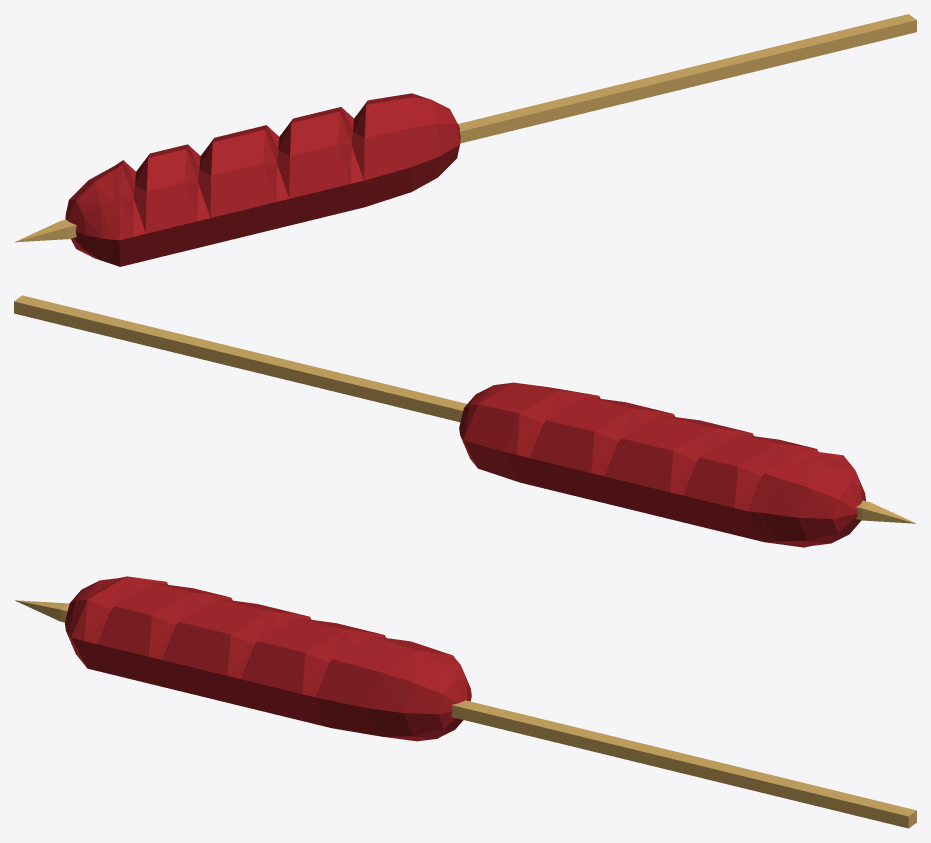
Rendered from SM_Cook_SkewerSausage_Grilled_01.fbx.
3 views of the same model, one above another, from view 1: azimuth 30°, elevation 25°; view 2: azimuth 150°, elevation 25°; view 3: azimuth 330°, elevation 25° (orthographic).
Parts seen in each view (by area): view 1: SM_Cook_SkewerSausage_Grilled_01; view 2: SM_Cook_SkewerSausage_Grilled_01; view 3: SM_Cook_SkewerSausage_Grilled_01.
Boxes of the visible parts, bbox=[...] form: SM_Cook_SkewerSausage_Grilled_01: bbox=[15, 14, 916, 266]; SM_Cook_SkewerSausage_Grilled_01: bbox=[14, 295, 915, 547]; SM_Cook_SkewerSausage_Grilled_01: bbox=[15, 576, 916, 828].
Size of the model in its own units: 0.25 by 0.0259 by 0.0259.
Materials: 1 (1 with a texture image).
